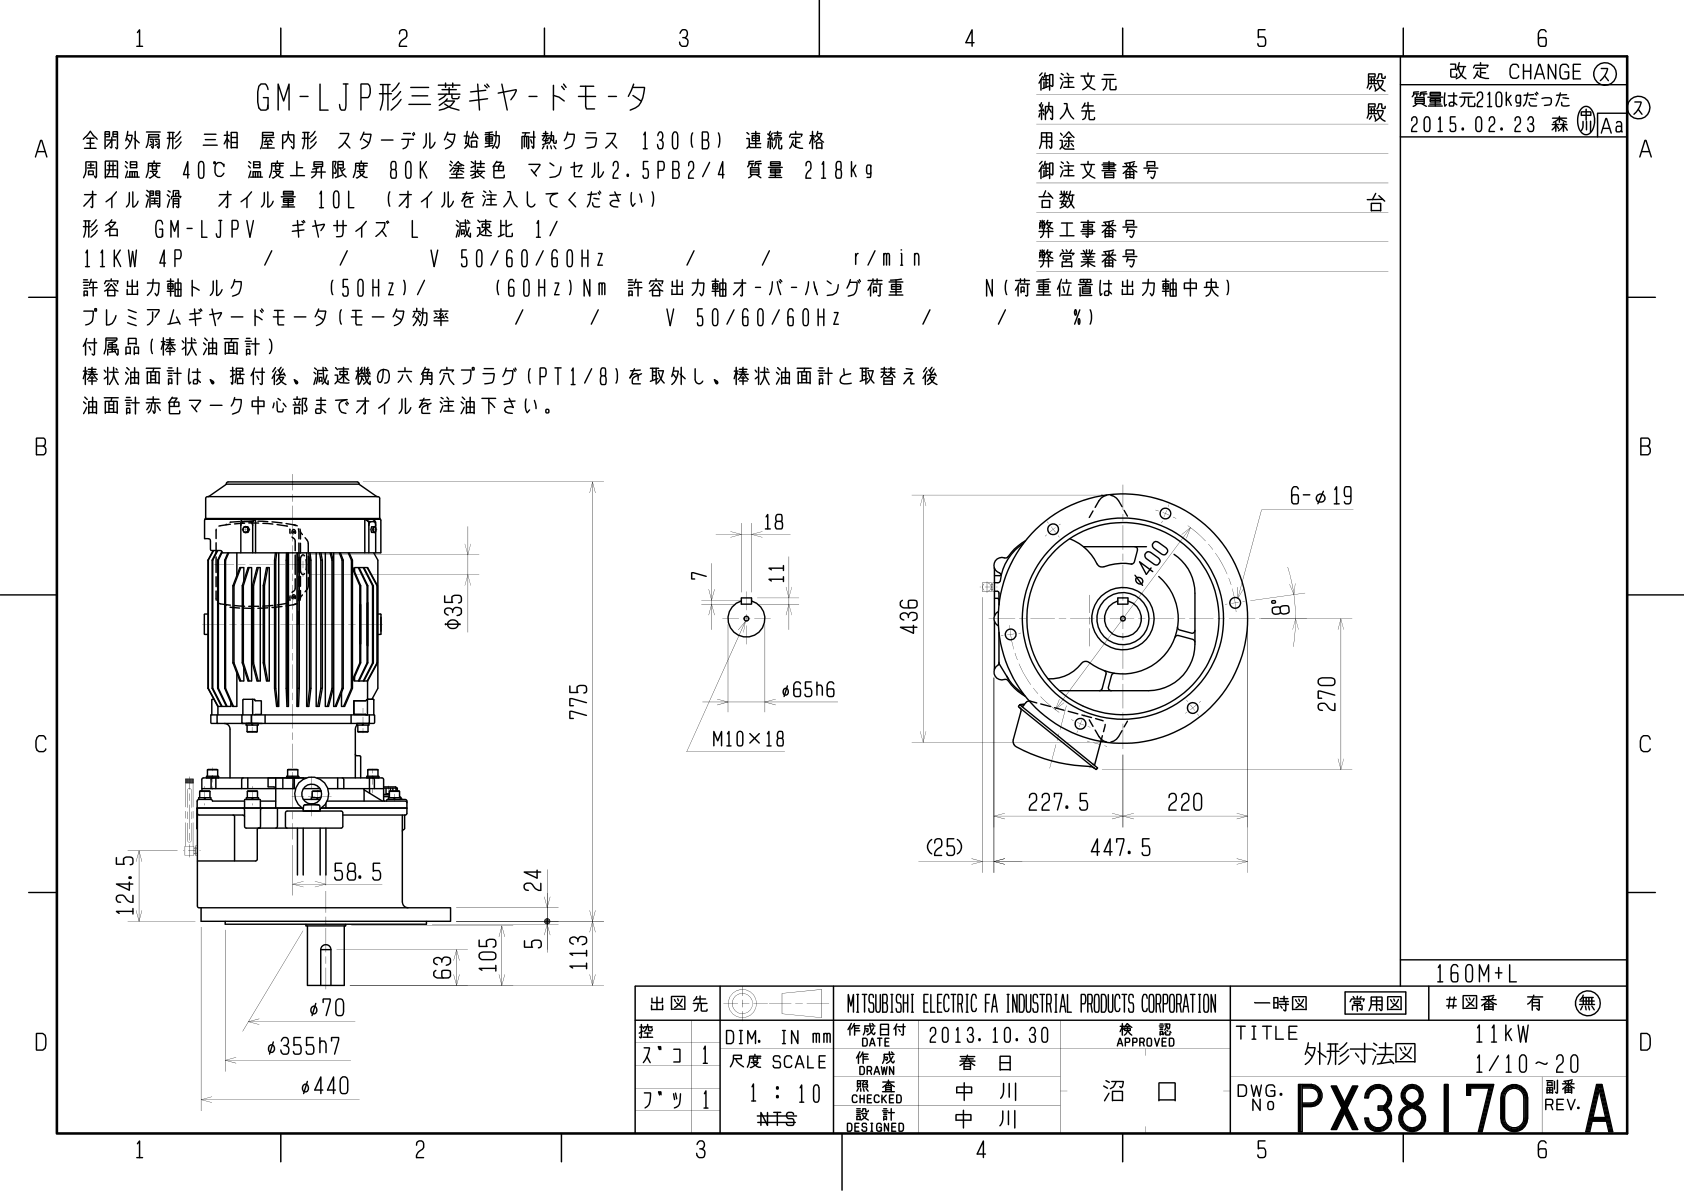GM_LJP_屋内_三相_立: (12, 15, 1684, 1191)
